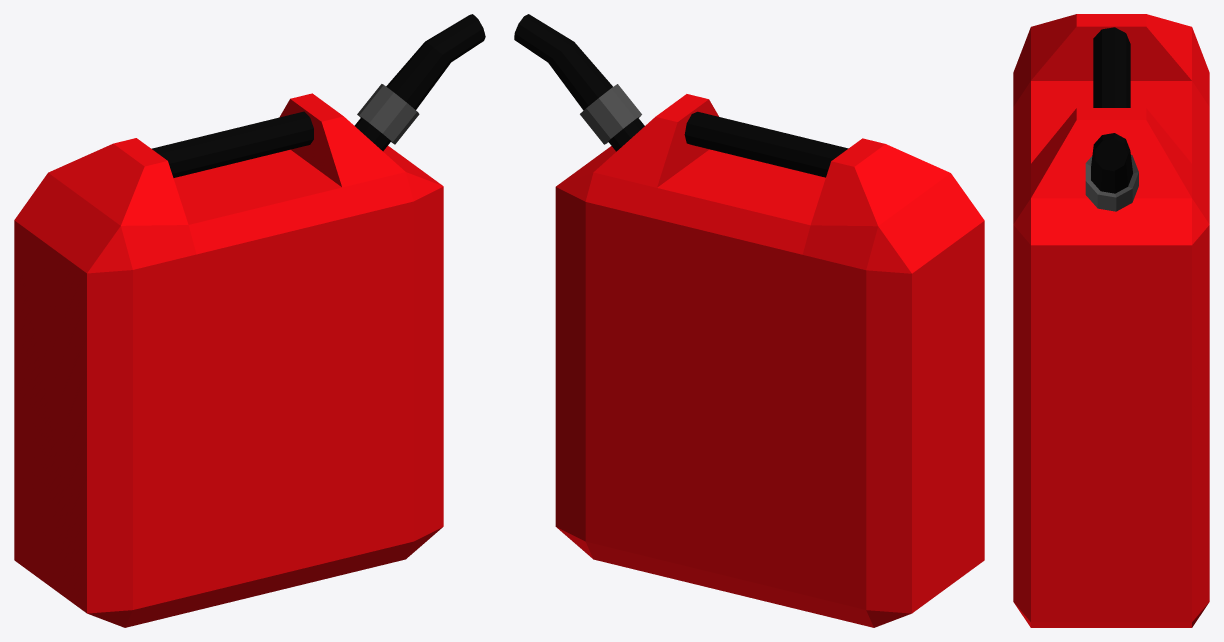
File: benzinbidonu.fbx
3 views of the same model, side by side, from view 1: azimuth 30°, elevation 25°; view 2: azimuth 150°, elevation 25°; view 3: azimuth 270°, elevation 25° (orthographic). The views are drawn at different scales.
Parts seen in each view (by area): view 1: Cube; view 2: Cube; view 3: Cube.
Part boxes in pixels (x1=…): Cube: x1=14, y1=14, x2=485, y2=627; Cube: x1=514, y1=14, x2=984, y2=627; Cube: x1=1013, y1=14, x2=1209, y2=627.
Size of the model in its own units: 65.75 by 71.97 by 23.46.
